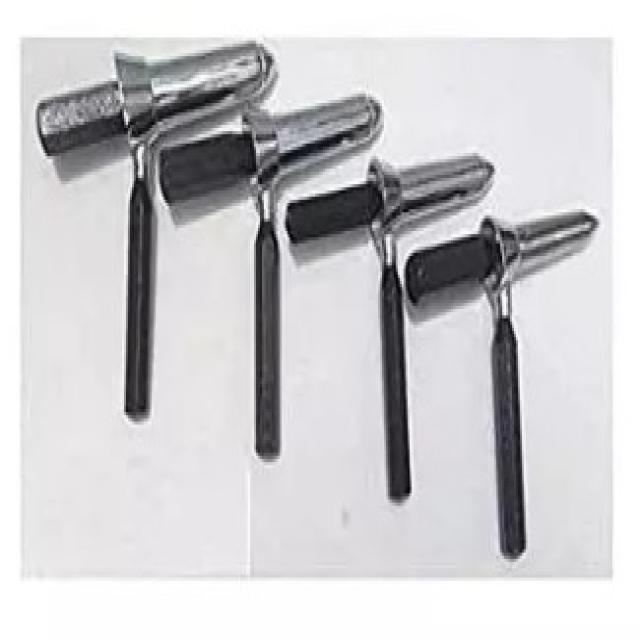Protoscope: (27, 31, 274, 418), (156, 86, 388, 470), (283, 150, 508, 506), (406, 203, 604, 560)
